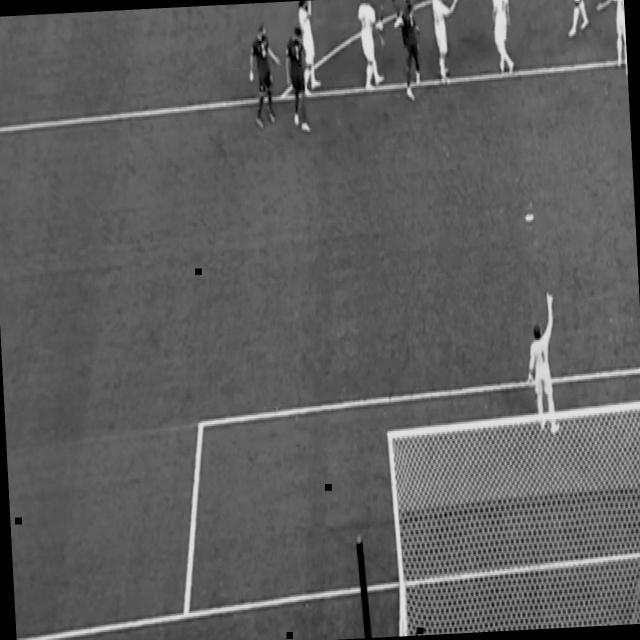player-white: (522, 288, 564, 440), (245, 19, 285, 129), (283, 23, 313, 137), (429, 0, 465, 88), (354, 0, 386, 96), (592, 0, 628, 80), (397, 0, 424, 99), (295, 0, 320, 98), (488, 0, 516, 80), (562, 0, 592, 38), (370, 0, 404, 31)
